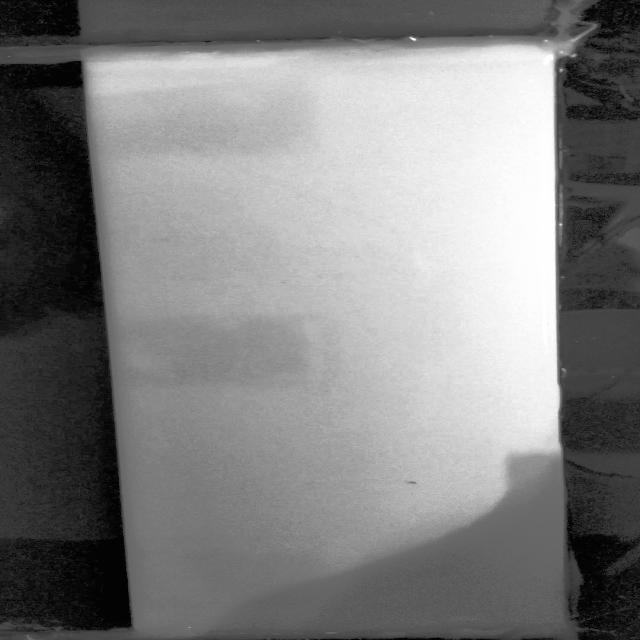shrimp: (389, 473, 438, 493)
